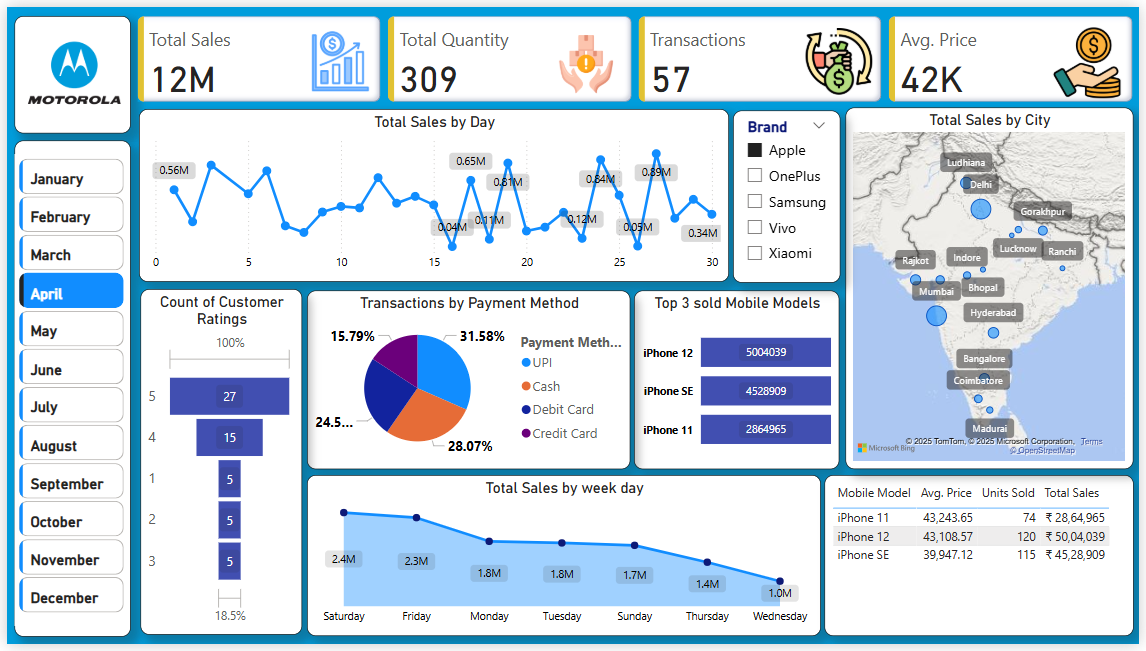

Layout of this report page (visuals, bound fields, positions):
{"tool":"powerbi","page":{"name":"Page 1","canvas":[1280,720],"ordinal":0},"visuals":[{"type":"image","box":[9.1,14.3,124.7,124.7],"z":0},{"type":"shape","box":[9.1,10.4,131.2,132.5],"z":1000},{"type":"image","box":[0,0,149.5,149.5],"z":2000},{"type":"shape","box":[8.6,150,131,560.3],"z":3000},{"type":"advancedSlicerVisual","fields":{"Values":["Mobile data sales.Date.Variation.Date Hierarchy.Month"]},"box":[9.2,165.4,128.5,533.1],"z":4000},{"type":"cardVisual","fields":{"Data":["Mobile data sales.Total Sales","Mobile data sales.Total Quantity","Mobile data sales.Transactions","Mobile data sales.Avg. Price"]},"box":[143.1,5,1137.3,107.8],"z":5000},{"type":"lineChart","fields":{"Category":["Mobile data sales.Date.Variation.Date Hierarchy.Month","Mobile data sales.Date.Variation.Date Hierarchy.Day"],"Y":["Mobile data sales.Total Sales"]},"box":[148.7,115.3,666.7,195.3],"z":6000},{"type":"hundredPercentStackedBarChart","title":"Top 3 sold Mobile Models","fields":{"Category":["Mobile data sales.Mobile Model"],"Y":["Mobile data sales.Total Sales"]},"box":[708.9,320,232.2,202.2],"z":7000},{"type":"pieChart","fields":{"Category":["Mobile data sales.Payment Method"],"Y":["Mobile data sales.Transactions"]},"box":[338.9,320,365.6,202.2],"z":8000},{"type":"funnel","title":"Count of Customer Ratings","fields":{"Category":["Mobile data sales.Customer Ratings"],"Y":["CountNonNull(Mobile data sales.Customer Name)"]},"box":[150,319.2,182.5,390.8],"z":9000},{"type":"stackedAreaChart","fields":{"Category":["Mobile data sales.week day"],"Y":["Mobile data sales.Total Sales"]},"box":[338.3,528.3,580.8,181.7],"z":10000},{"type":"tableEx","fields":{"Values":["Mobile data sales.Mobile Model","Mobile data sales.Avg. Price","Sum(Mobile data sales.Units Sold)","Mobile data sales.Total Sales"]},"box":[923.3,528.3,349,181.7],"z":11000},{"type":"map","fields":{"Category":["Mobile data sales.City"],"Size":["Mobile data sales.Total Sales"]},"box":[947.5,113.6,325,408.5],"z":11001},{"type":"slicer","fields":{"Values":["Mobile data sales.Brand"]},"box":[820,116.7,121.1,194.4],"z":11002}]}

Visuals, with their boxes in screenshot pixels (x1, y1, x2, y2), scaled from the page's 1280x720 canvas onto the 1146x651 screenshot:
image: 8:13:120:126
shape: 8:9:126:129
image: 0:0:134:135
shape: 8:136:125:642
advancedSlicerVisual - Mobile data sales.Date.Variation.Date Hierarchy.Month: 8:150:123:632
cardVisual - Mobile data sales.Total Sales x Mobile data sales.Total Quantity: 128:5:1145:102
lineChart - Mobile data sales.Date.Variation.Date Hierarchy.Month x Mobile data sales.Date.Variation.Date Hierarchy.Day: 133:104:730:281
"Top 3 sold Mobile Models" hundredPercentStackedBarChart: 635:289:843:472
pieChart - Mobile data sales.Payment Method x Mobile data sales.Transactions: 303:289:631:472
"Count of Customer Ratings" funnel: 134:289:298:642
stackedAreaChart - Mobile data sales.week day x Mobile data sales.Total Sales: 303:478:823:642
tableEx - Mobile data sales.Mobile Model x Mobile data sales.Avg. Price: 827:478:1139:642
map - Mobile data sales.City x Mobile data sales.Total Sales: 848:103:1139:472
slicer - Mobile data sales.Brand: 734:106:843:281
